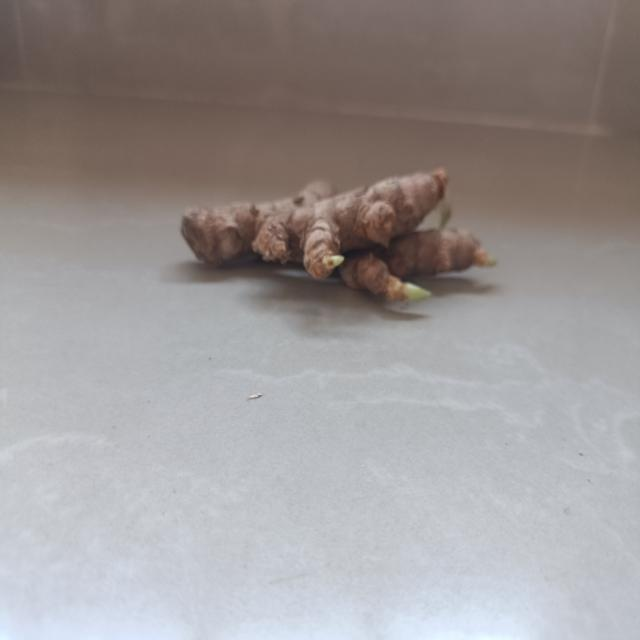ginger: (177, 157, 498, 305)
